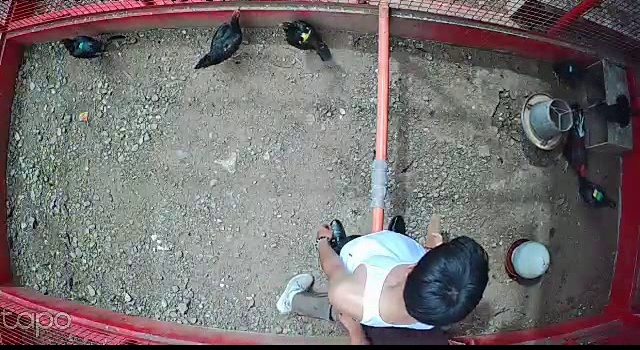Chicken: (194, 6, 247, 78), (280, 17, 336, 63), (596, 93, 640, 134), (60, 33, 115, 64), (547, 59, 590, 97), (571, 174, 616, 210)
Drinker: (507, 238, 550, 279)
Feeder: (521, 91, 576, 150)
Rooster: (552, 101, 592, 180)
Saddle_Color_Yellow: (300, 27, 311, 43)
Saddle_Color_YellowGreen: (592, 191, 603, 199)
